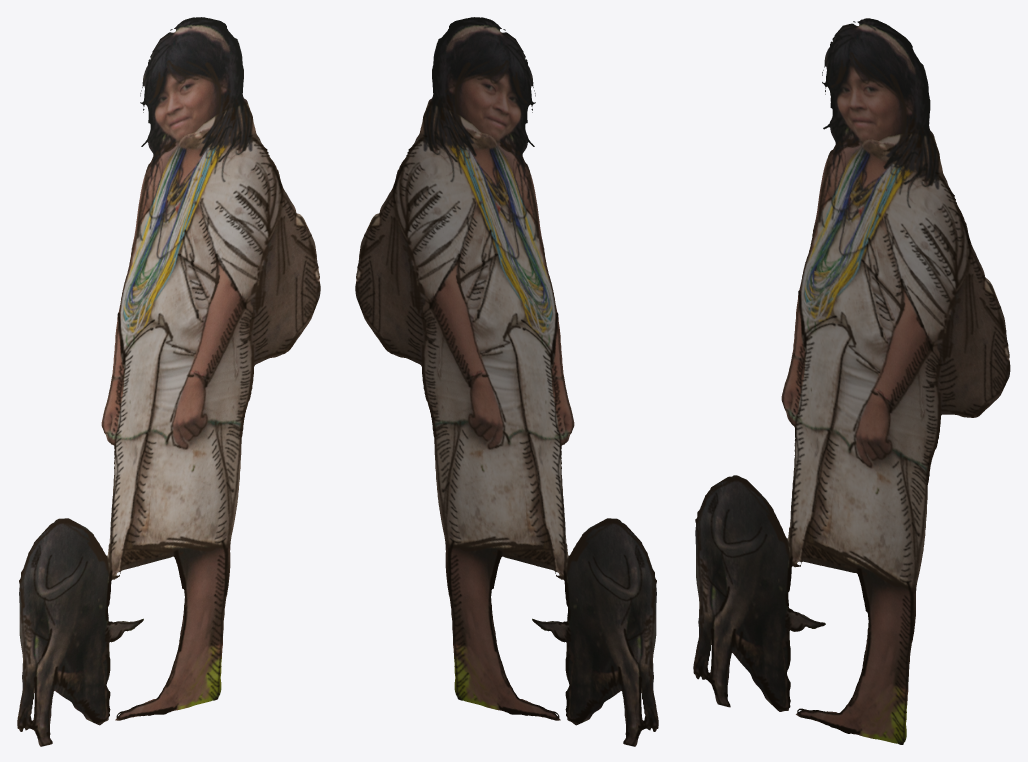
The model's file is indigena.fbx.
The picture shows the model from 3 angles, left to right: view 1: azimuth 30°, elevation 25°; view 2: azimuth 150°, elevation 25°; view 3: azimuth 330°, elevation 25°; orthographic projection. The views are drawn at different scales.
Visible parts, largest first — view 1: INDI; view 2: INDI; view 3: INDI.
Boxes of the visible parts, left/top/right/bottom form: INDI: left=17, top=17, right=320, bottom=746; INDI: left=355, top=17, right=658, bottom=746; INDI: left=693, top=18, right=1010, bottom=744.
Bounding box in the file's own units: 6.98 × 15.03 × 0.
1 material, 1 textured.
